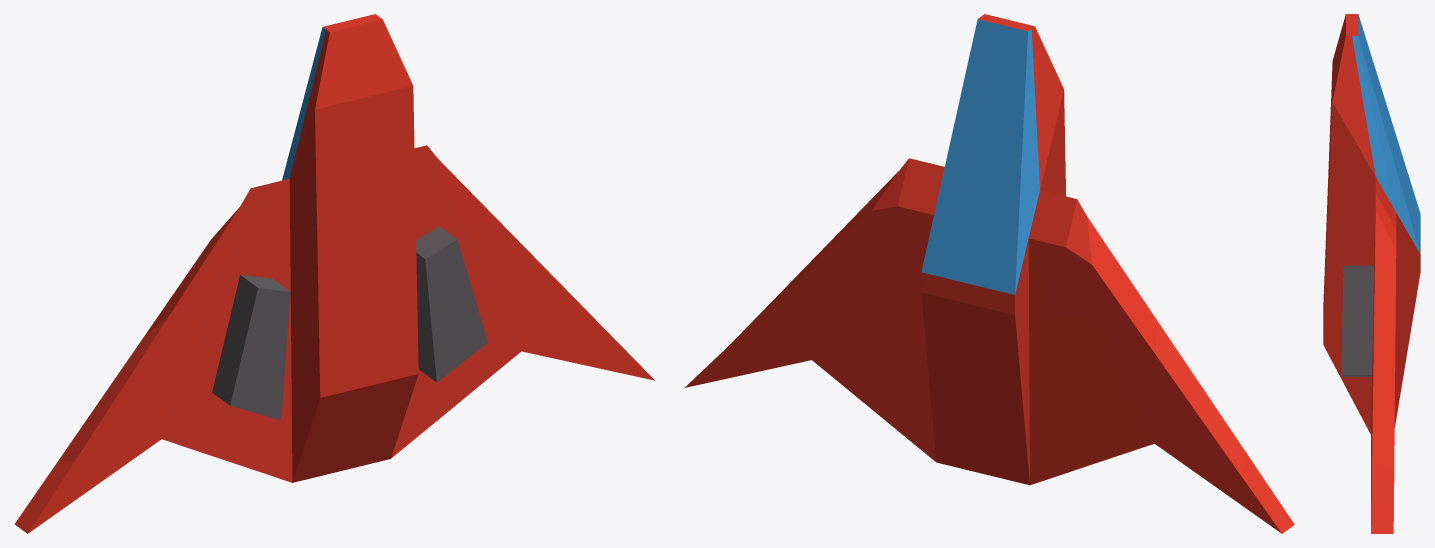
File: SpaceshipUnity1.1.fbx
3 renders of one model, left to right at view 1: azimuth 30°, elevation 25°; view 2: azimuth 150°, elevation 25°; view 3: azimuth 270°, elevation 25°, orthographic. The views are drawn at different scales.
Parts seen in each view (by area): view 1: Cube; view 2: Cube; view 3: Cube.
Part boxes in pixels (x1=…): Cube: x1=14, y1=14, x2=654, y2=533; Cube: x1=684, y1=14, x2=1294, y2=533; Cube: x1=1323, y1=14, x2=1420, y2=533.
Bounding box in the file's own units: 1276 × 885 × 200.
